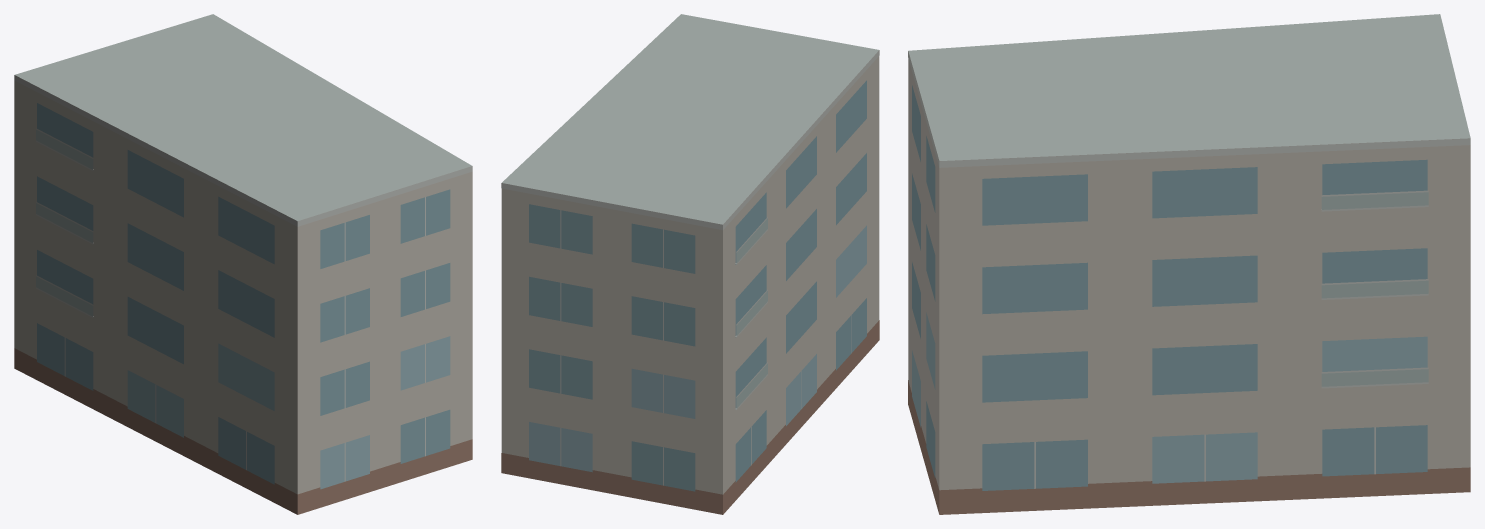
Rendered from survey-upis-33045483.glb.
3 renders of one model, left to right at view 1: azimuth 30°, elevation 25°; view 2: azimuth 150°, elevation 25°; view 3: azimuth 270°, elevation 25°, orthographic. The views are drawn at different scales.
Parts seen in each view (by area): view 1: survey-upis-33045483.tmp; view 2: survey-upis-33045483.tmp; view 3: survey-upis-33045483.tmp.
Boxes of the visible parts, left/top/right/bottom form: survey-upis-33045483.tmp: left=14, top=14, right=472, bottom=514; survey-upis-33045483.tmp: left=501, top=14, right=879, bottom=514; survey-upis-33045483.tmp: left=908, top=14, right=1470, bottom=514.
Size of the model in its own units: 11.39 by 12.76 by 18.4.
